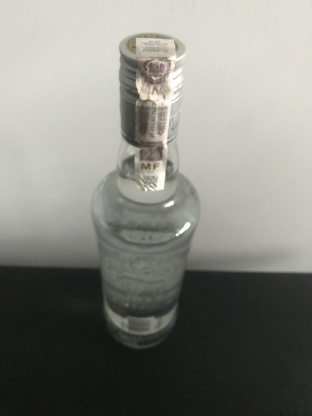nakretka: (116, 31, 187, 147)
